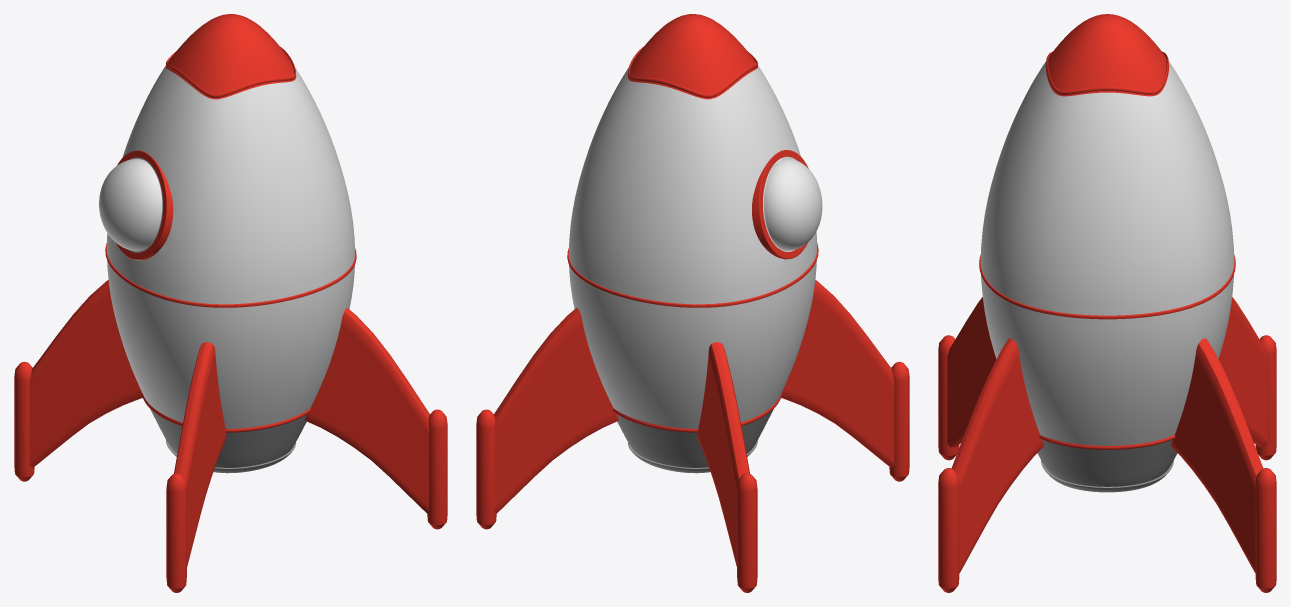
File: AttickRocket.fbx
The picture shows the model from 3 angles, left to right: view 1: azimuth 30°, elevation 25°; view 2: azimuth 150°, elevation 25°; view 3: azimuth 270°, elevation 25°; orthographic projection. The views are drawn at different scales.
Parts seen in each view (by area): view 1: kids Lamp.004, Sphere.021; view 2: kids Lamp.004, Sphere.021; view 3: kids Lamp.004.
Boxes of the visible parts, x1=… form: kids Lamp.004: x1=14, y1=14, x2=447, y2=592; Sphere.021: x1=99, y1=150, x2=173, y2=259; kids Lamp.004: x1=476, y1=14, x2=909, y2=592; Sphere.021: x1=752, y1=150, x2=822, y2=259; kids Lamp.004: x1=938, y1=14, x2=1276, y2=592.
Bounding box in the file's own units: 31.06 × 51.96 × 31.36.
